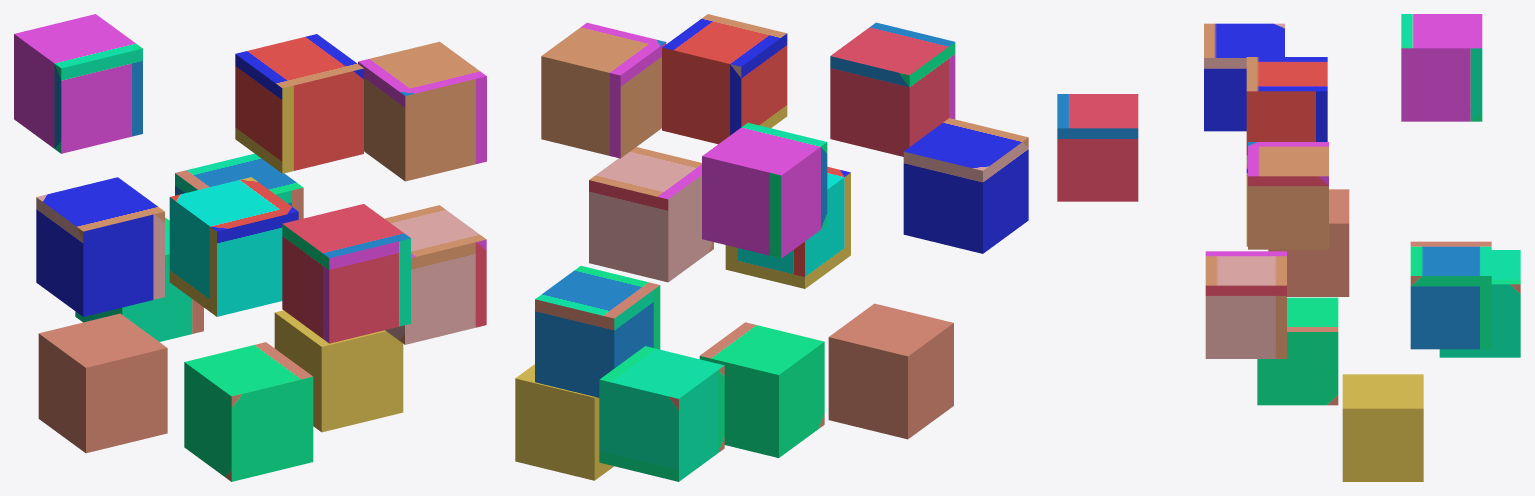
Rendered from monkey202.glb.
3 views of the same model, side by side, from view 1: azimuth 30°, elevation 25°; view 2: azimuth 150°, elevation 25°; view 3: azimuth 270°, elevation 25° (orthographic). The views are drawn at different scales.
Parts seen in each view (by area): view 1: Cube.009, Cube.010, Cube.002, Cube.001, Cube.005, Cube.006, Cube.004, Cube, Cube.003, Cube.011, Cube.008, Cube.007; view 2: Cube.008, Cube.006, Cube.002, Cube.010, Cube.004, Cube.005, Cube.001, Cube.003, Cube.007, Cube.009, Cube.011, Cube; view 3: Cube.007, Cube.003, Cube.005, Cube.006, Cube.011, Cube.004, Cube.009, Cube.001, Cube.002, Cube.010, Cube.008.
Boxes of the visible parts, x1=… form: Cube.009: x1=184, y1=342, x2=313, y2=481; Cube.010: x1=38, y1=313, x2=167, y2=453; Cube.002: x1=36, y1=177, x2=164, y2=316; Cube.001: x1=235, y1=34, x2=363, y2=173; Cube.005: x1=282, y1=204, x2=410, y2=343; Cube.006: x1=14, y1=14, x2=142, y2=153; Cube.004: x1=358, y1=41, x2=486, y2=181; Cube: x1=169, y1=177, x2=298, y2=316; Cube.003: x1=384, y1=205, x2=486, y2=344; Cube.011: x1=274, y1=310, x2=403, y2=432; Cube.008: x1=75, y1=217, x2=203, y2=341; Cube.007: x1=175, y1=153, x2=303, y2=219; Cube.008: x1=599, y1=346, x2=724, y2=481; Cube.006: x1=702, y1=122, x2=827, y2=258; Cube.002: x1=903, y1=118, x2=1028, y2=253; Cube.010: x1=828, y1=303, x2=953, y2=439; Cube.004: x1=541, y1=22, x2=666, y2=158; Cube.005: x1=830, y1=22, x2=955, y2=156; Cube.001: x1=662, y1=14, x2=787, y2=144; Cube.003: x1=589, y1=147, x2=713, y2=282; Cube.007: x1=535, y1=266, x2=660, y2=397; Cube.009: x1=699, y1=322, x2=824, y2=457; Cube.011: x1=515, y1=364, x2=613, y2=480; Cube: x1=725, y1=166, x2=850, y2=288; Cube.007: x1=1410, y1=241, x2=1491, y2=349; Cube.003: x1=1205, y1=251, x2=1286, y2=358; Cube.005: x1=1057, y1=94, x2=1138, y2=201; Cube.006: x1=1401, y1=14, x2=1482, y2=121; Cube.011: x1=1342, y1=374, x2=1423, y2=481; Cube.004: x1=1248, y1=142, x2=1328, y2=249; Cube.009: x1=1257, y1=297, x2=1338, y2=405; Cube.001: x1=1246, y1=57, x2=1327, y2=164; Cube.002: x1=1204, y1=23, x2=1284, y2=131; Cube.010: x1=1268, y1=189, x2=1349, y2=296; Cube.008: x1=1439, y1=250, x2=1520, y2=357.
Size of the model in its own units: 0.1051 by 0.0955 by 0.1143.
1 material, 1 textured.
